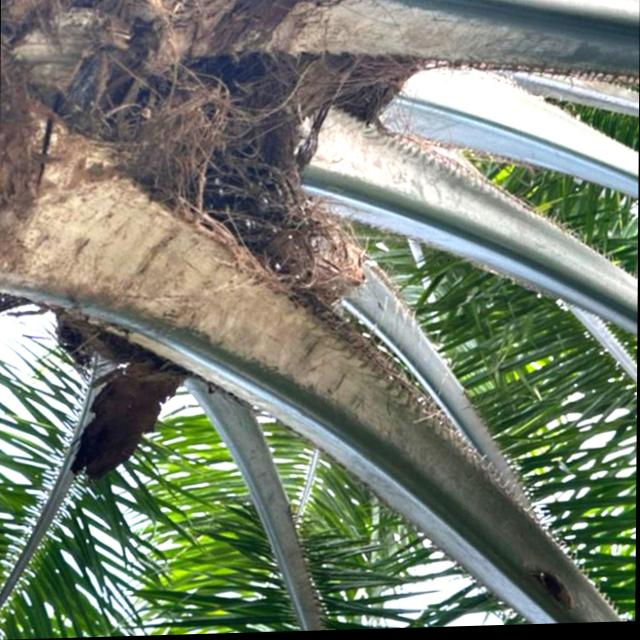unripe: (144, 110, 325, 282)
